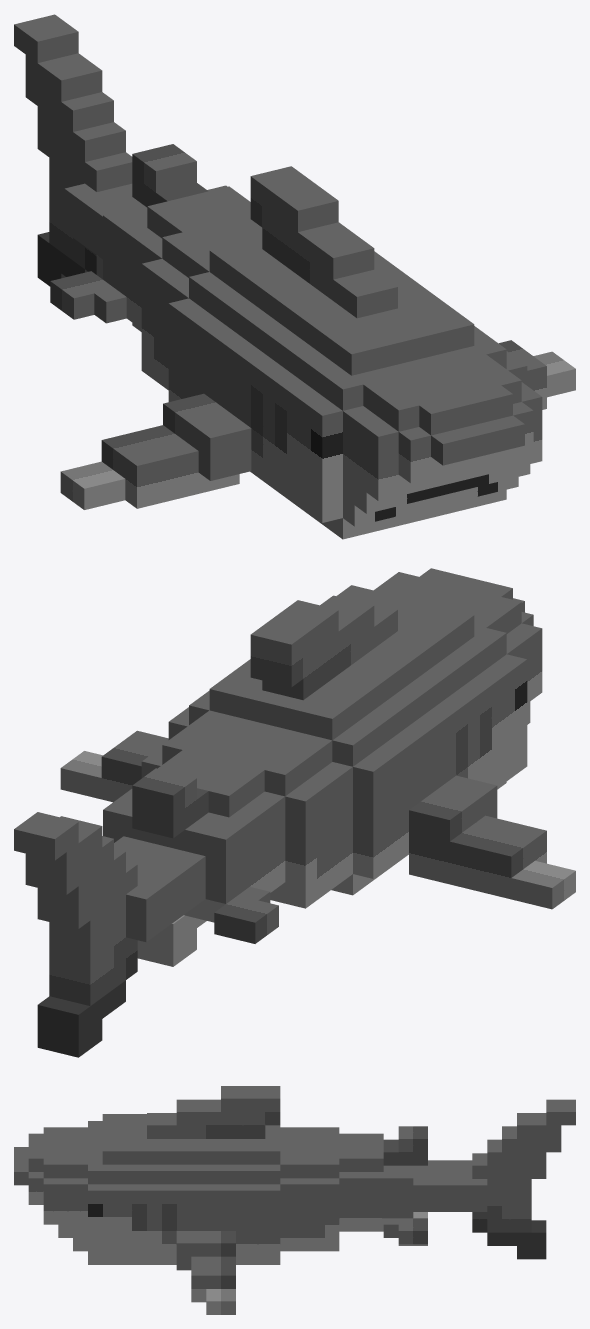
File: animals-2-shark.fbx
3 views of the same model, one above another, from view 1: azimuth 30°, elevation 25°; view 2: azimuth 150°, elevation 25°; view 3: azimuth 270°, elevation 25° (orthographic). The views are drawn at different scales.
Parts seen in each view (by area): view 1: animals-2-shark.001; view 2: animals-2-shark.001; view 3: animals-2-shark.001.
Part boxes in pixels (x1=…): animals-2-shark.001: x1=14, y1=14, x2=575, y2=539; animals-2-shark.001: x1=14, y1=568, x2=575, y2=1057; animals-2-shark.001: x1=14, y1=1086, x2=575, y2=1314.
Size of the model in its own units: 2.4 by 1.2 by 3.8.
Materials: 1 (1 with a texture image).
